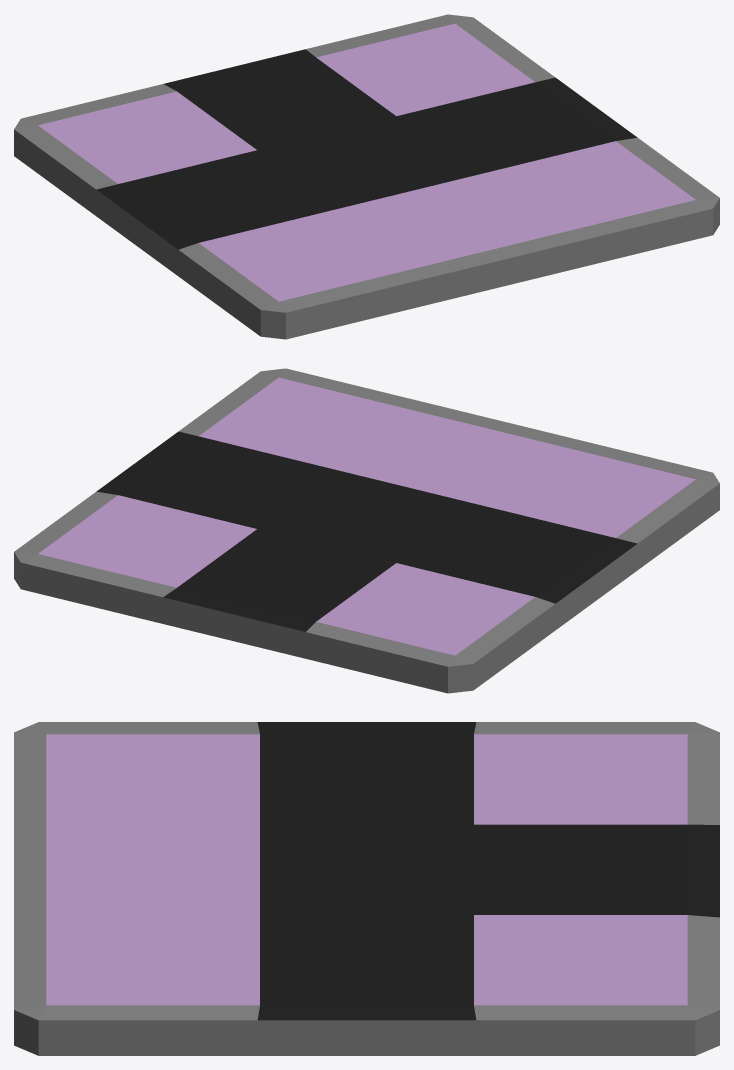
Rendered from streett.fbx.
The picture shows the model from 3 angles, top to bottom: view 1: azimuth 30°, elevation 25°; view 2: azimuth 150°, elevation 25°; view 3: azimuth 270°, elevation 25°; orthographic projection. The views are drawn at different scales.
Visible parts, largest first — view 1: StreetT; view 2: StreetT; view 3: StreetT.
Part boxes in pixels (bbox=[...]): StreetT: bbox=[14, 14, 719, 339]; StreetT: bbox=[14, 368, 719, 693]; StreetT: bbox=[14, 722, 719, 1055].
Bounding box in the file's own units: 100 × 5.98 × 100.
